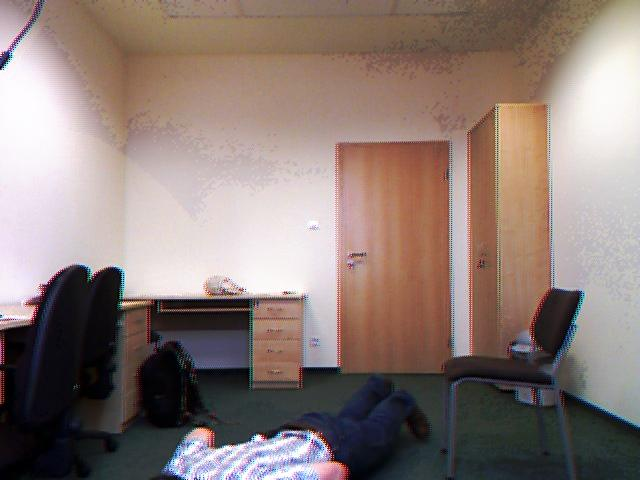fall: (147, 377, 445, 480)
